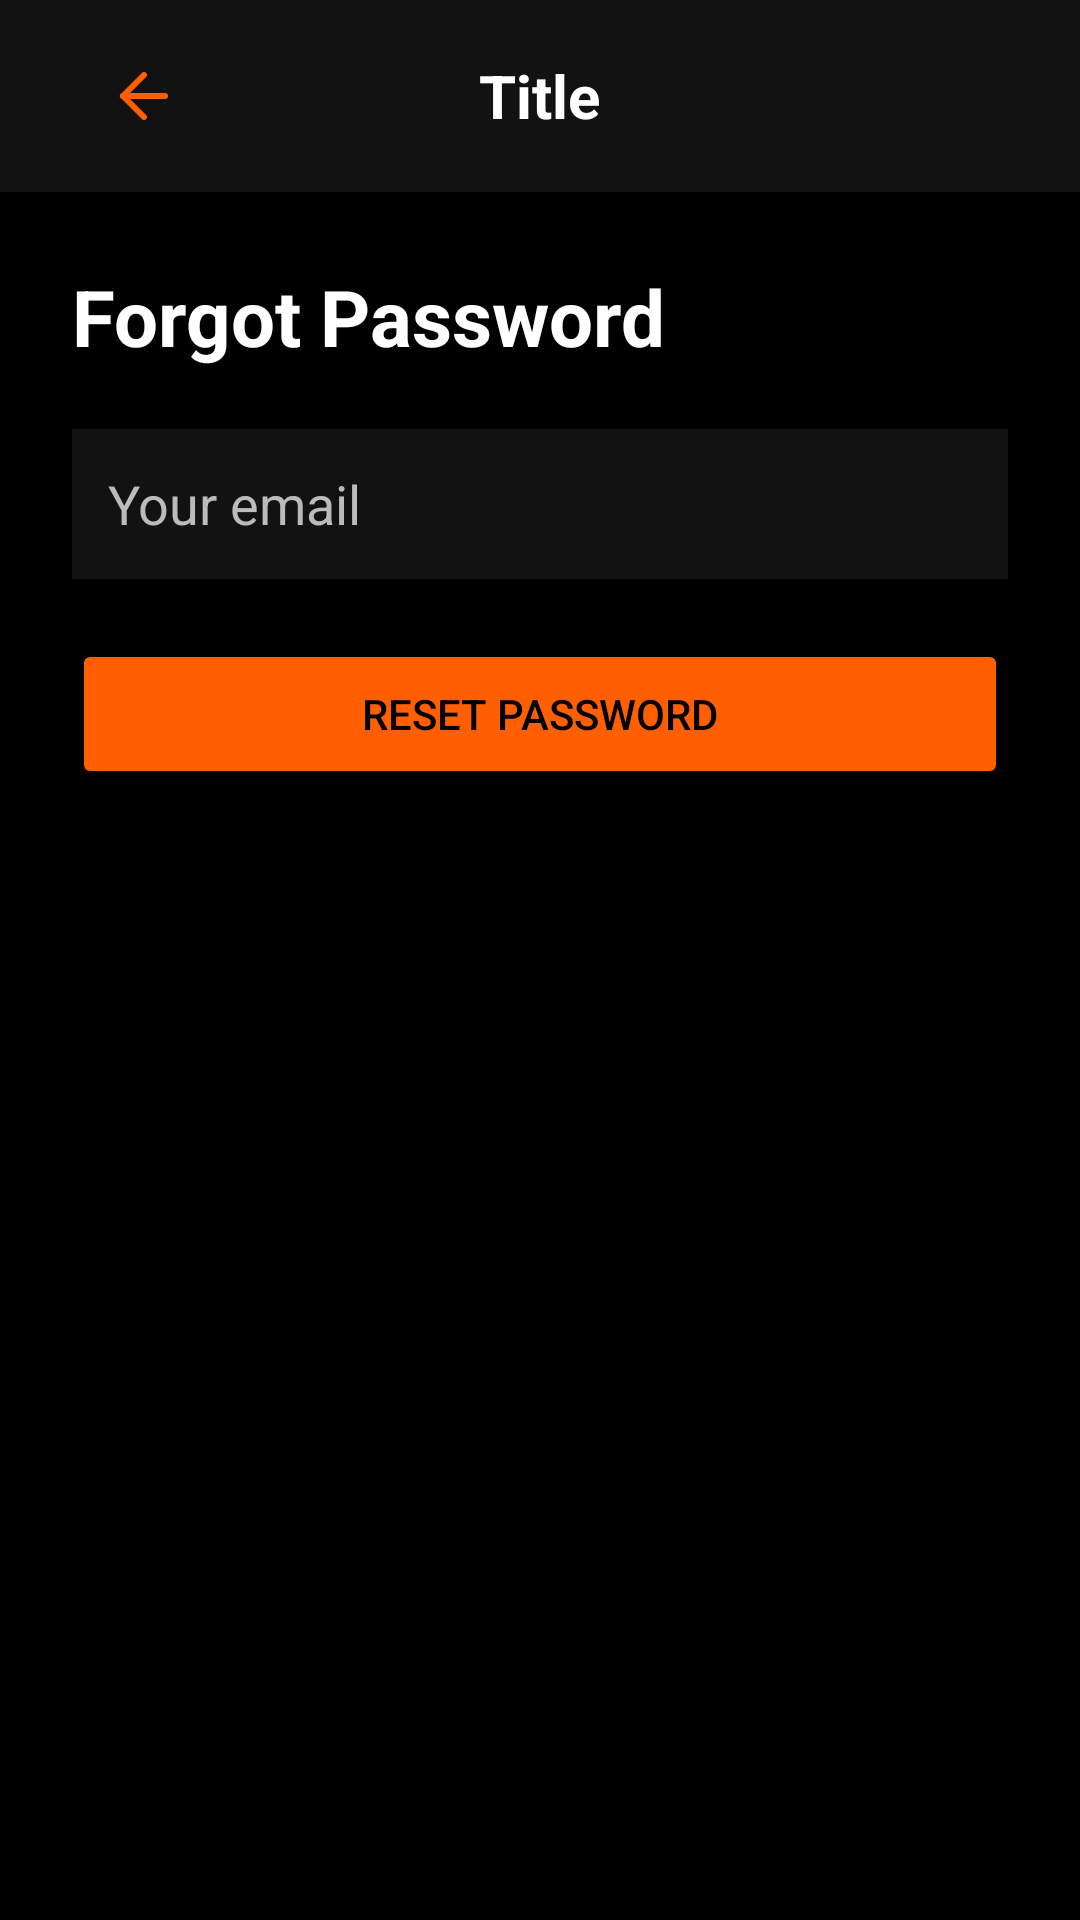

Point at icon controls on the screen. Image size 1080 × 1920, points as (x=x, y=y).
go back: (x=144, y=96)
